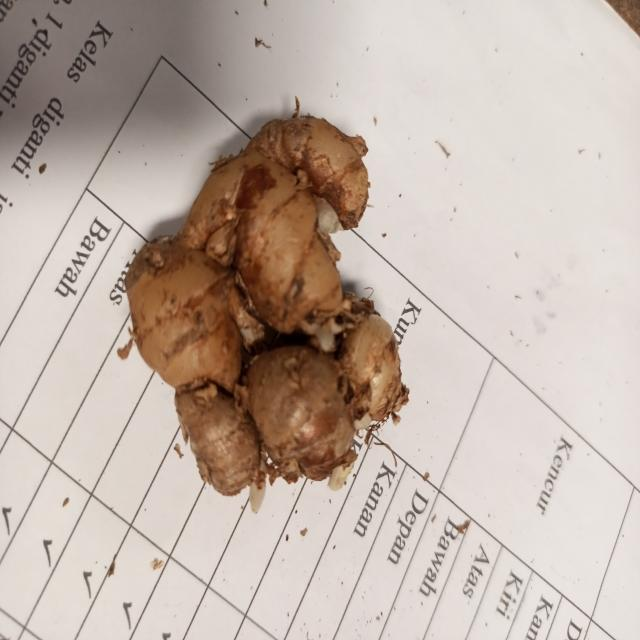ginger: (132, 116, 396, 482)
